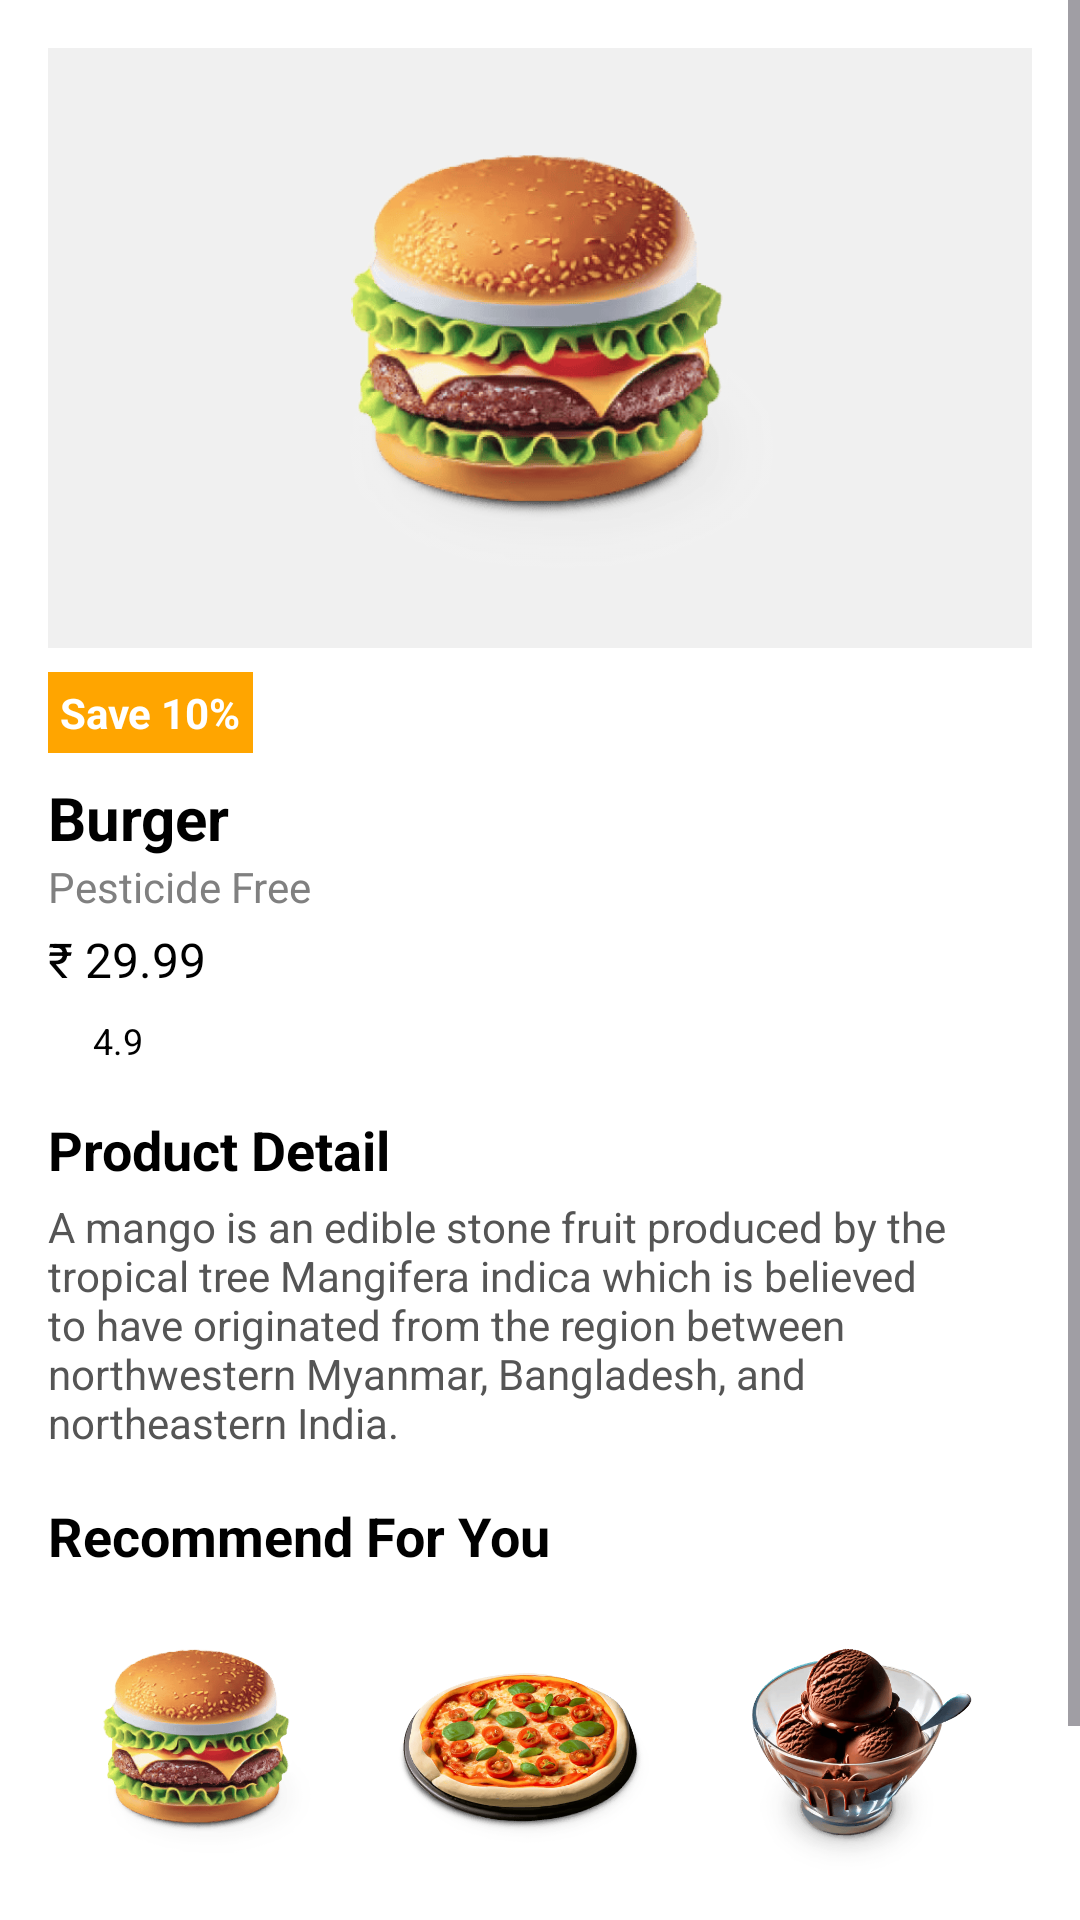

Icon bounding boxes for this 1080*1920 phone screenshot, format {"left": x1, "top": y1, "right": x2, "bottom": y2}:
ice cream: {"left": 752, "top": 1649, "right": 972, "bottom": 1844}
pizza: {"left": 403, "top": 1673, "right": 639, "bottom": 1827}
